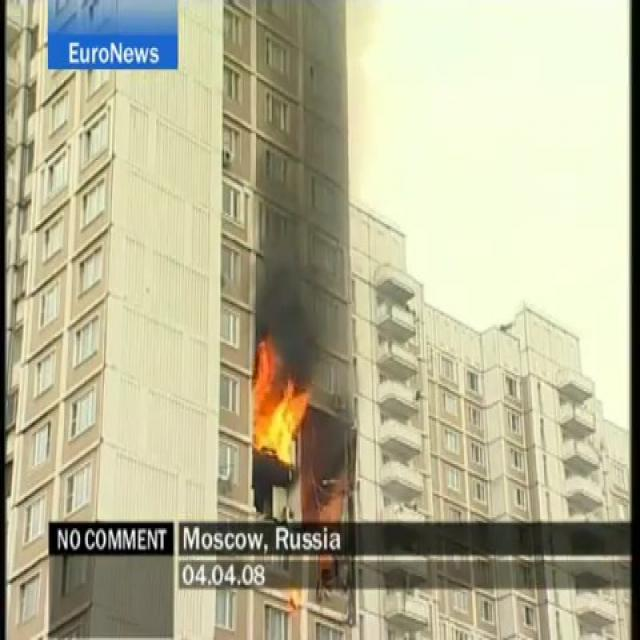fire: (251, 332, 313, 458), (314, 487, 354, 523)
